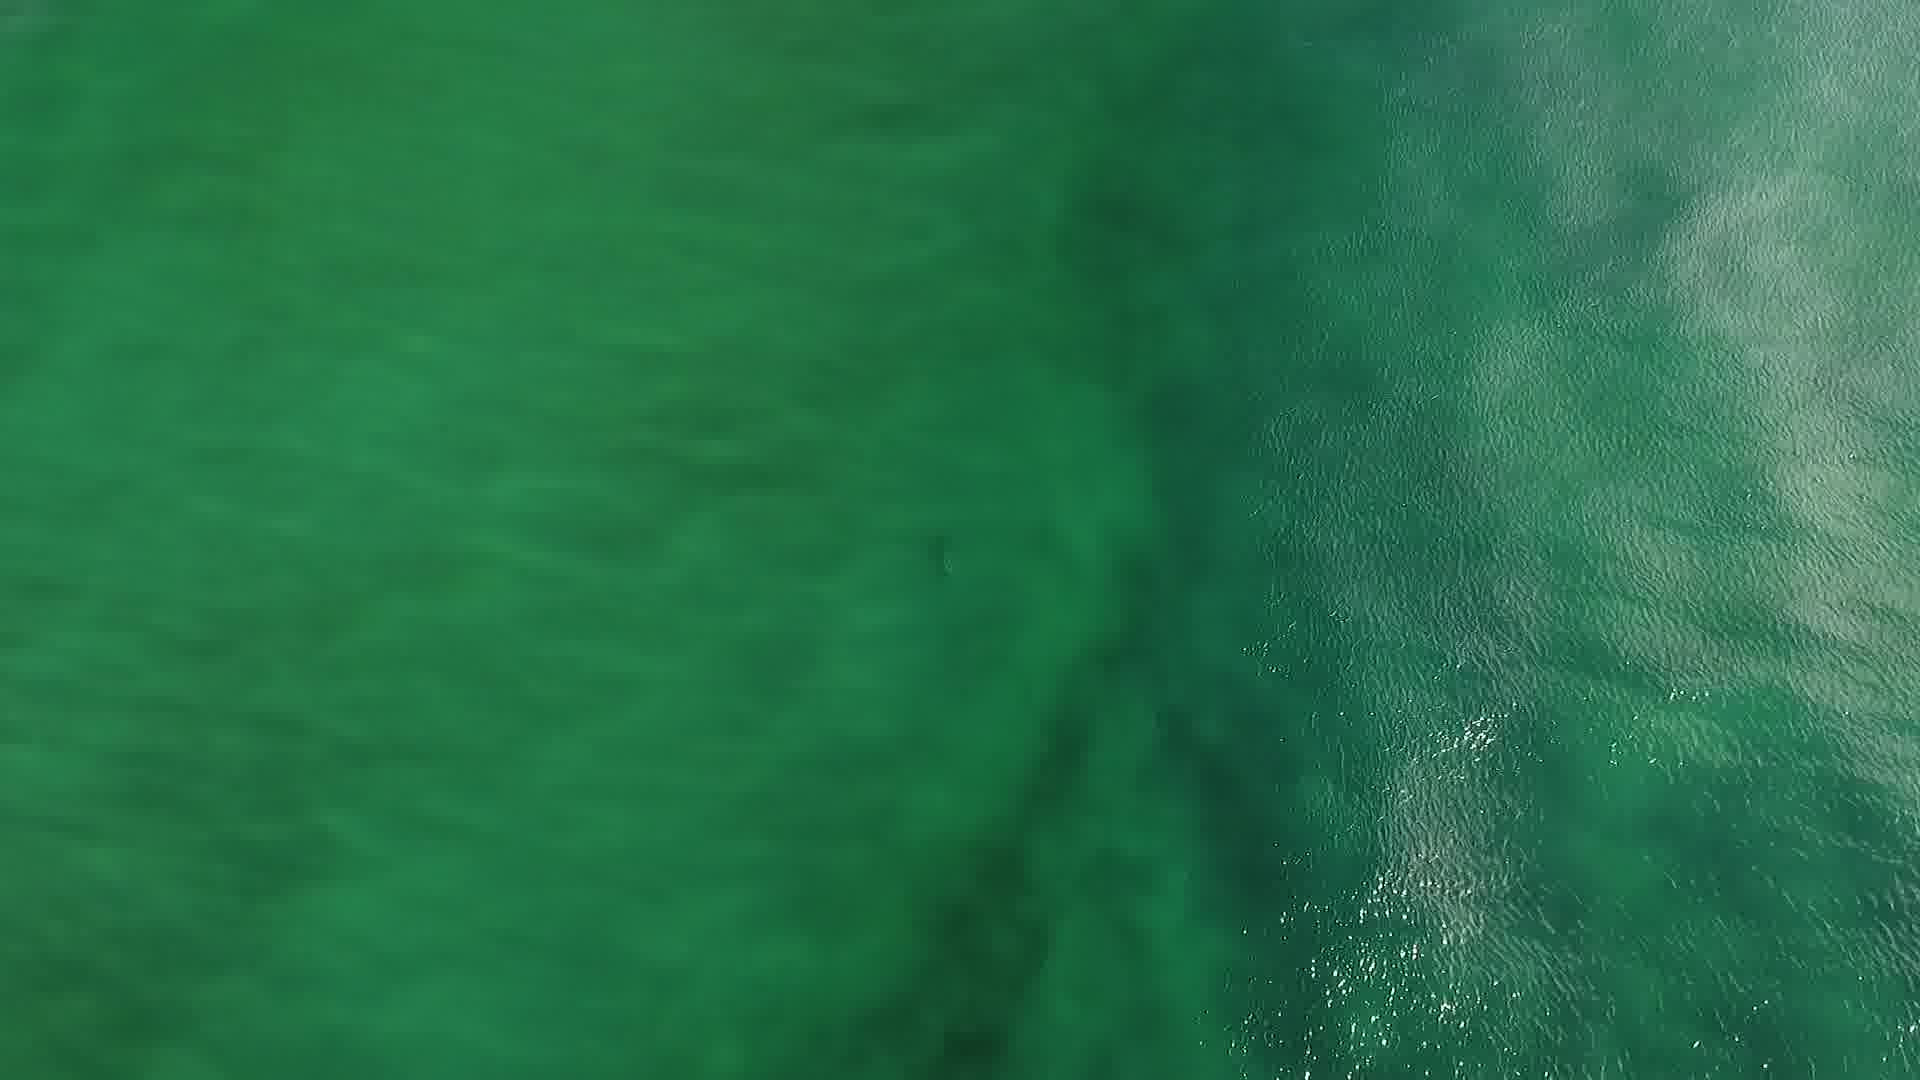shark: (928, 535, 957, 580)
